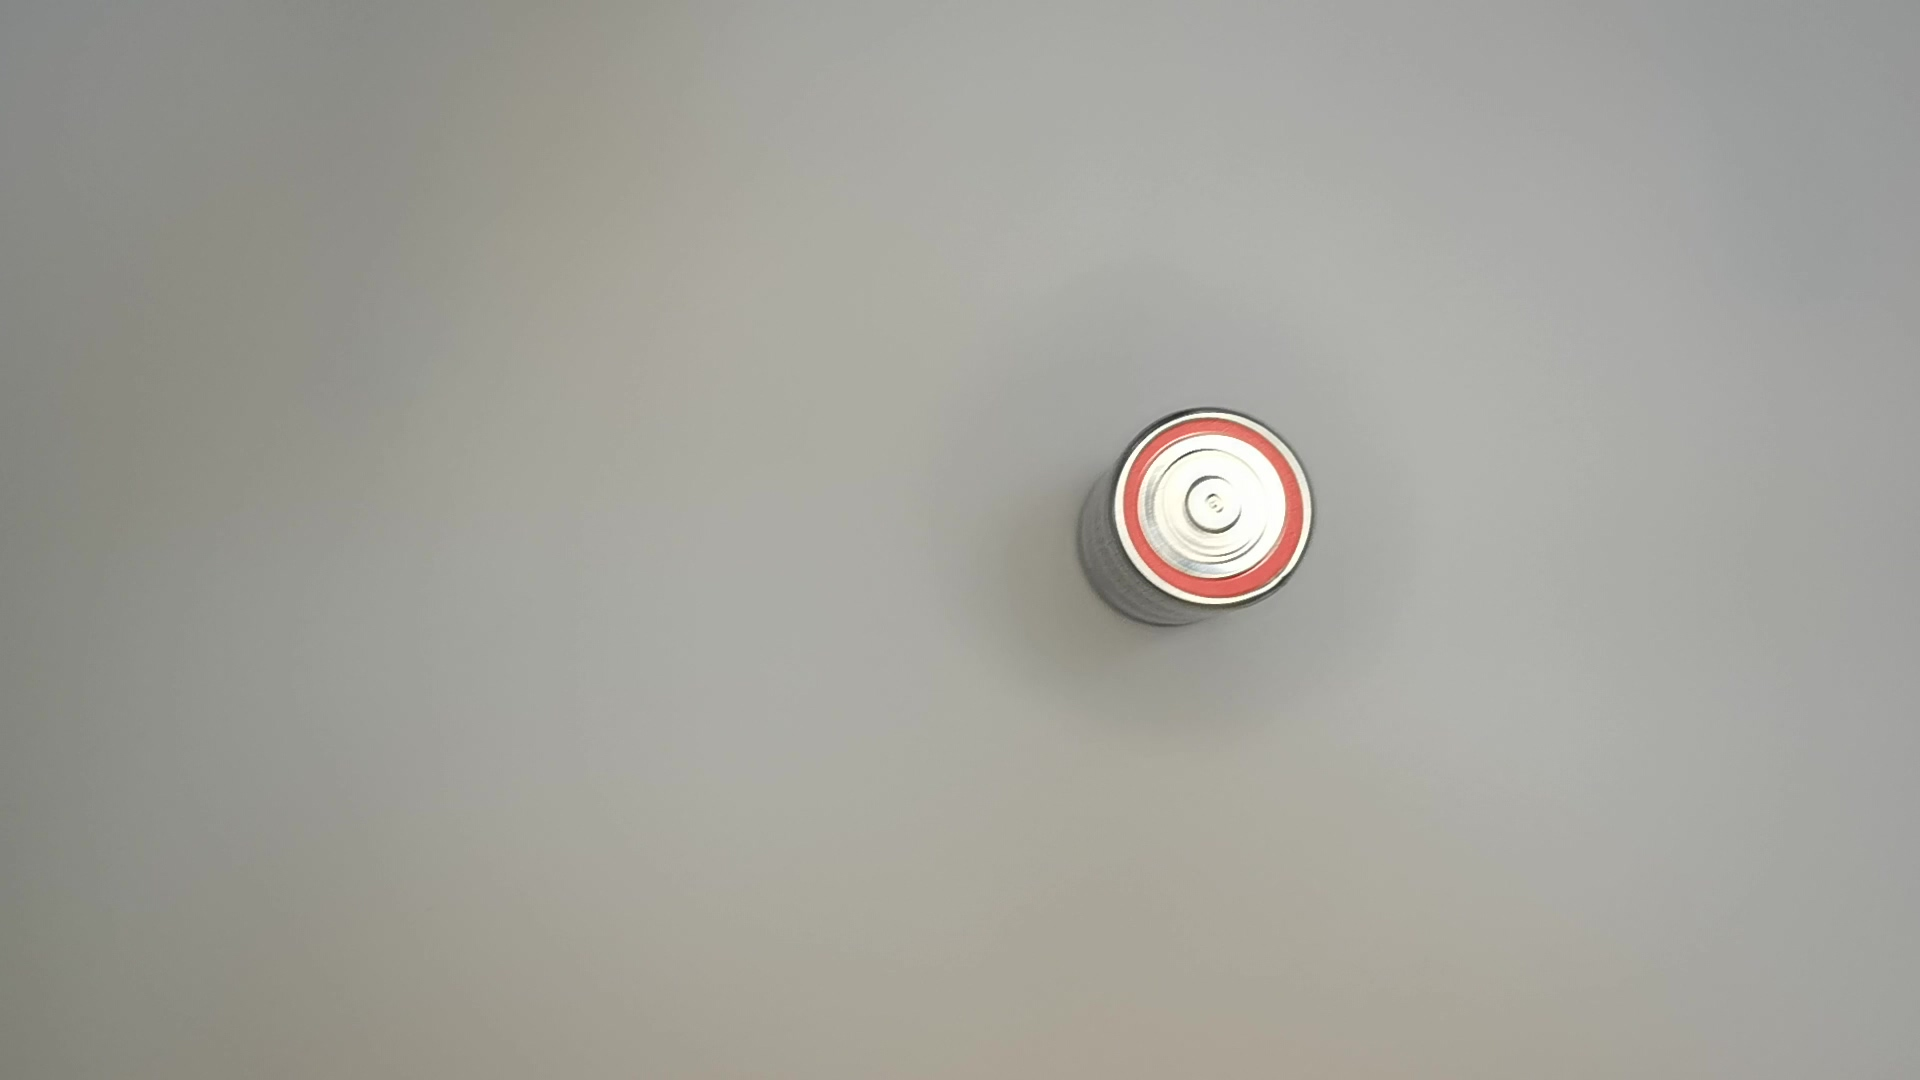battery: (1073, 401, 1317, 636)
